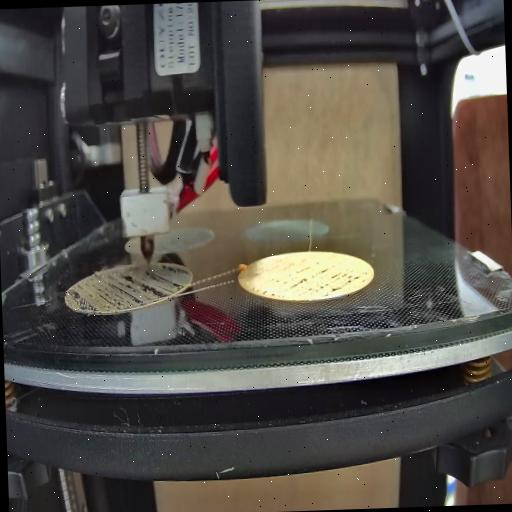under_extrusion: (68, 264, 188, 314), (281, 268, 365, 308), (250, 278, 276, 299)
